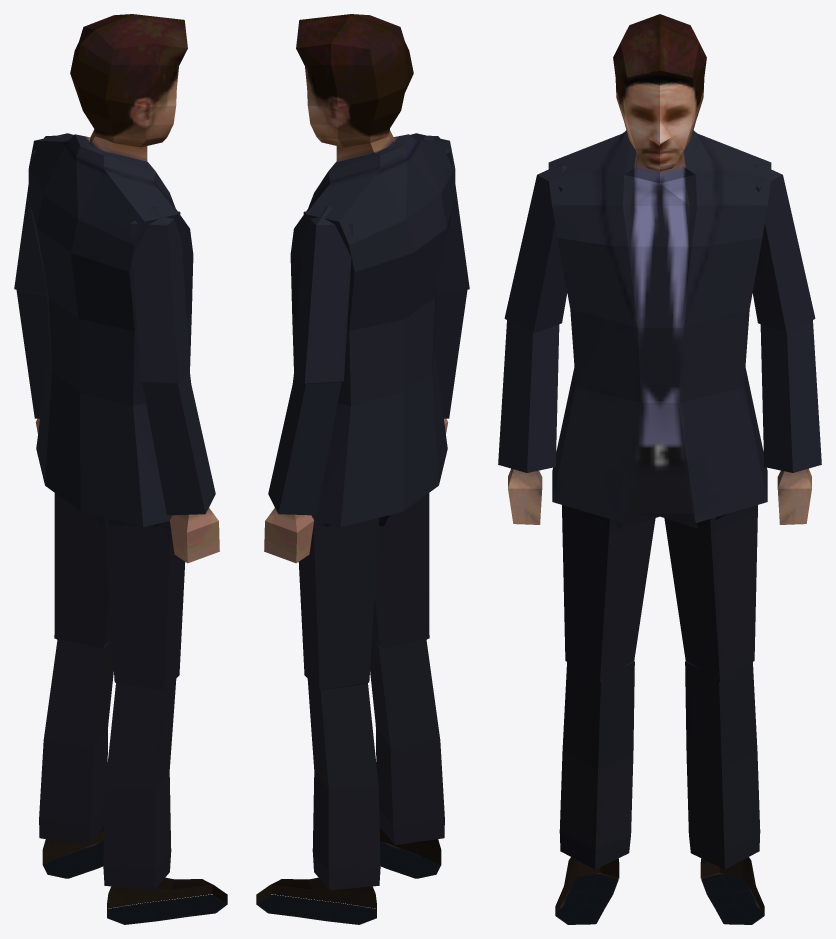
File: mulder.obj
The picture shows the model from 3 angles, left to right: view 1: azimuth 30°, elevation 25°; view 2: azimuth 150°, elevation 25°; view 3: azimuth 270°, elevation 25°; orthographic projection.
Parts seen in each view (by area): view 1: Cube, Cube.002_Cube.003, Cube.001_Cube.002, Cube.006_Cube.007, Cube.003_Cube.004, Cube.004_Cube.005, Cube.008, Cube.007_Cube.001; view 2: Cube, Cube.002_Cube.003, Cube.001_Cube.002, Cube.006_Cube.007, Cube.003_Cube.004, Cube.004_Cube.005, Cube.008, Cube.007_Cube.001; view 3: Cube, Cube.002_Cube.003, Cube.001_Cube.002, Cube.004_Cube.005, Cube.003_Cube.004, Cube.006_Cube.007, Cube.008, Cube.007_Cube.001.
Part boxes in pixels (left/top/right/bottom): Cube: left=28, top=130, right=193, bottom=527; Cube.002_Cube.003: left=39, top=639, right=176, bottom=890; Cube.001_Cube.002: left=54, top=493, right=185, bottom=690; Cube.006_Cube.007: left=70, top=14, right=187, bottom=147; Cube.003_Cube.004: left=14, top=135, right=189, bottom=384; Cube.004_Cube.005: left=16, top=290, right=215, bottom=515; Cube.008: left=42, top=826, right=227, bottom=924; Cube.007_Cube.001: left=35, top=418, right=219, bottom=563; Cube: left=290, top=130, right=455, bottom=527; Cube.002_Cube.003: left=307, top=639, right=444, bottom=890; Cube.001_Cube.002: left=298, top=493, right=429, bottom=690; Cube.006_Cube.007: left=296, top=14, right=413, bottom=147; Cube.003_Cube.004: left=294, top=135, right=469, bottom=384; Cube.004_Cube.005: left=268, top=290, right=467, bottom=515; Cube.008: left=256, top=826, right=441, bottom=924; Cube.007_Cube.001: left=264, top=418, right=448, bottom=563; Cube: left=548, top=130, right=771, bottom=528; Cube.002_Cube.003: left=559, top=661, right=760, bottom=869; Cube.001_Cube.002: left=562, top=505, right=757, bottom=681; Cube.004_Cube.005: left=498, top=320, right=821, bottom=472; Cube.003_Cube.004: left=504, top=164, right=815, bottom=333; Cube.006_Cube.007: left=613, top=14, right=706, bottom=171; Cube.008: left=555, top=857, right=764, bottom=924; Cube.007_Cube.001: left=508, top=468, right=811, bottom=524.
Size of the model in its own units: 0.5209 by 3.3 by 1.11.
1 material, 1 textured.
